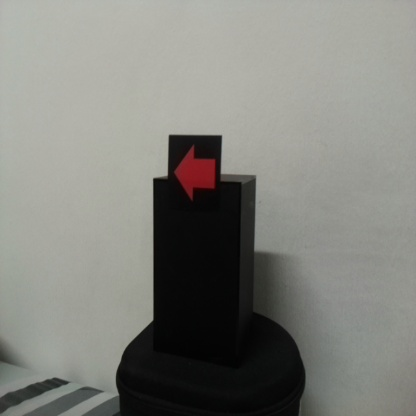id_4: (168, 134, 221, 207)
